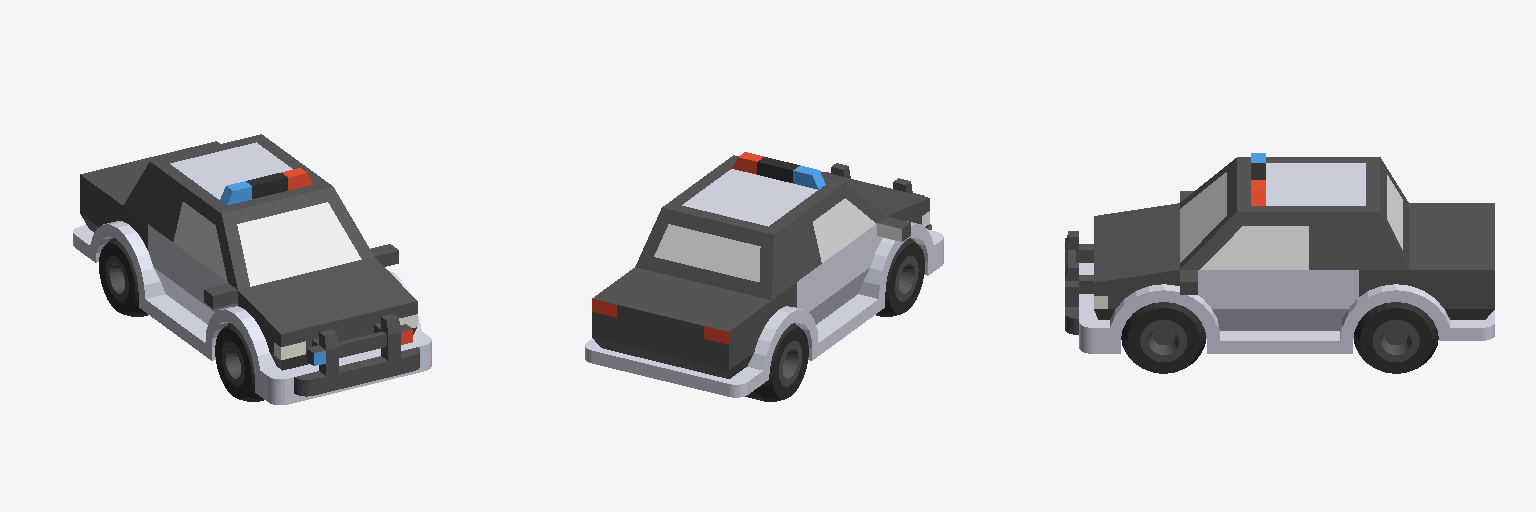
File: police.obj
3 renders of one model, left to right at view 1: azimuth 30°, elevation 25°; view 2: azimuth 150°, elevation 25°; view 3: azimuth 270°, elevation 25°, orthographic.
Visible parts, largest first — view 1: body, grill, wheel_backRight, wheel_frontRight; view 2: body, wheel_backRight, wheel_frontRight; view 3: body, wheel_backLeft, wheel_frontLeft, grill.
Part boxes in pixels (x1,y1,x2,y2): body: (73, 134, 431, 404); grill: (294, 314, 419, 396); wheel_backRight: (99, 238, 147, 316); wheel_frontRight: (215, 323, 263, 401); body: (585, 152, 943, 397); wheel_backRight: (745, 323, 808, 401); wheel_frontRight: (876, 238, 924, 316); body: (1079, 153, 1494, 353); wheel_backLeft: (1354, 302, 1438, 373); wheel_frontLeft: (1121, 302, 1205, 373); grill: (1065, 231, 1093, 334).
Bounding box in the file's own units: 1.12 × 0.975 × 2.25.